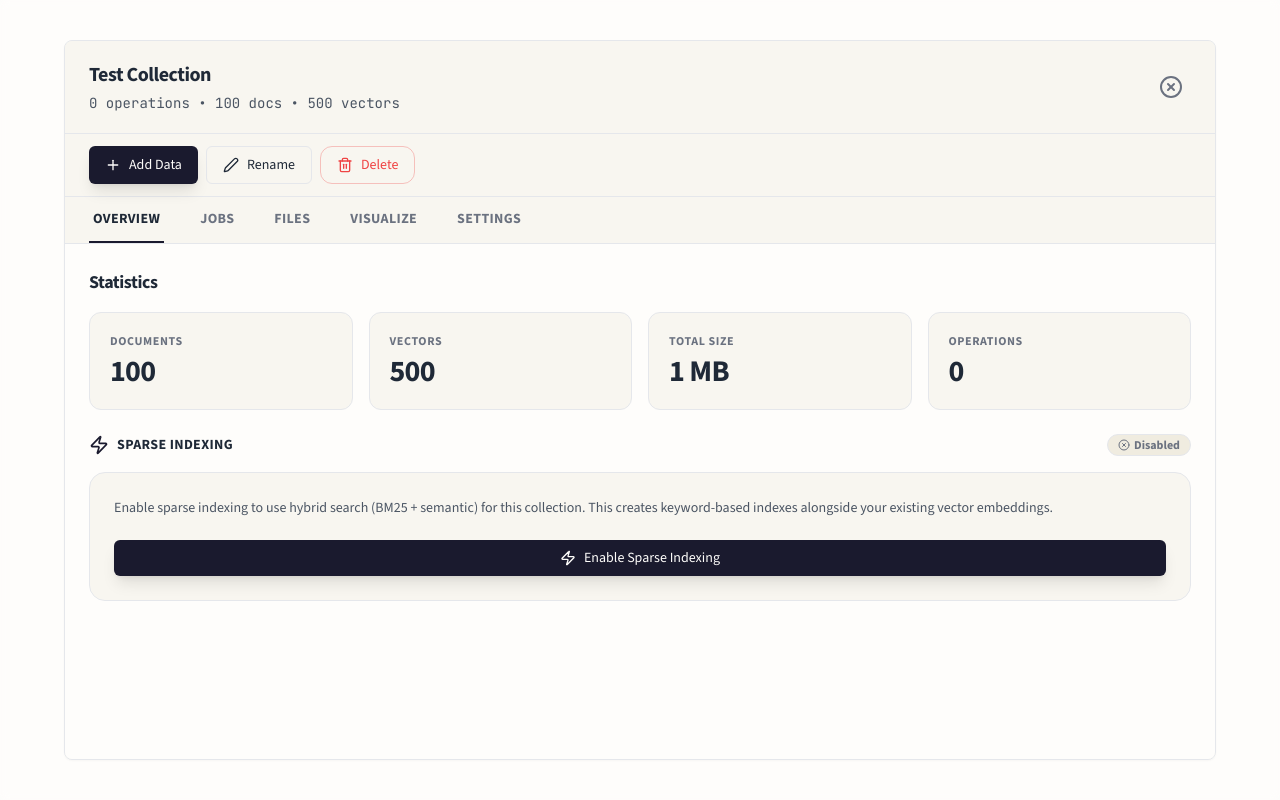
Test: CollectionDetailsModal › Tab Navigation › should switch to jobs tab and show operations
The width and height of the screenshot is (1280, 800).
Click the button "Jobs". click: coordinates (217, 220)
box: x1=196 y1=197 x2=238 y2=243
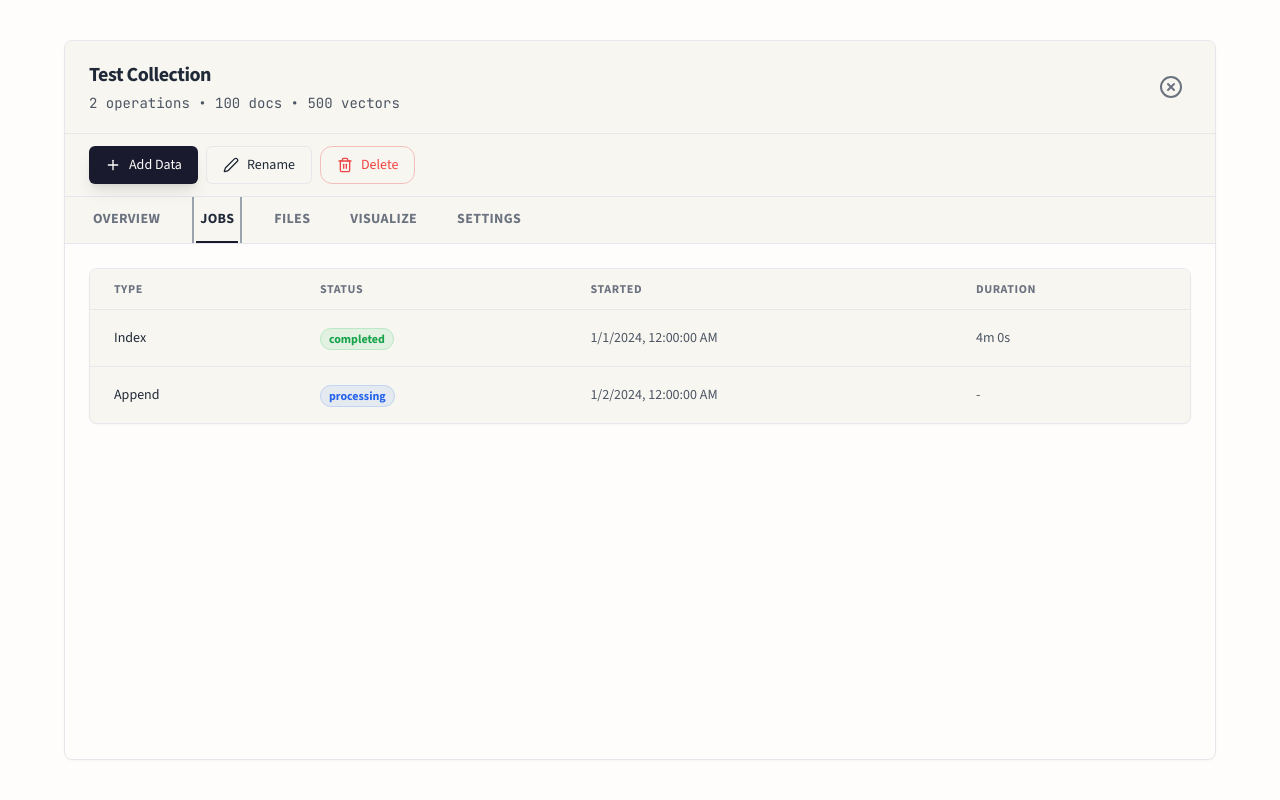
Expected: the column heading "Type" is shown, x1=90 y1=269 x2=296 y2=310
Expected: the column heading "Status" is shown, x1=296 y1=269 x2=566 y2=310
Expected: the column heading "Started" is shown, x1=566 y1=269 x2=952 y2=310
